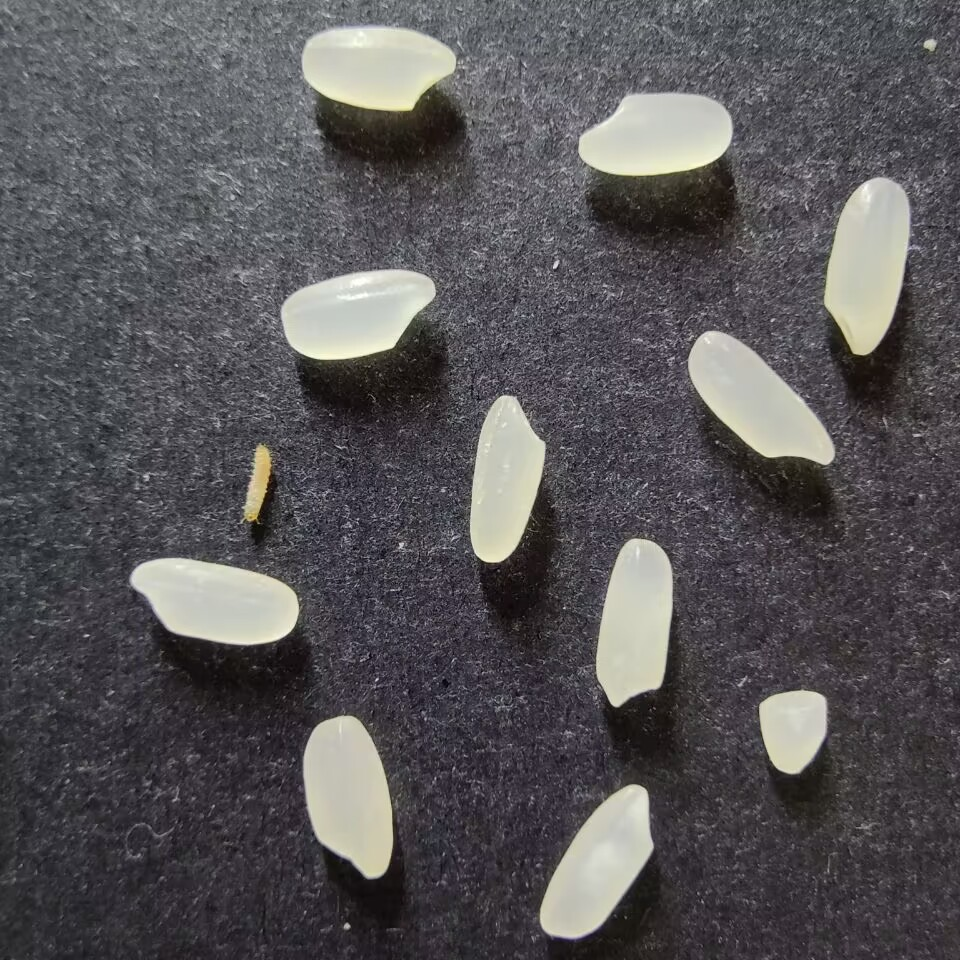broken: (758, 690, 828, 774)
others: (237, 443, 271, 527)
rice: (687, 330, 835, 466), (539, 783, 653, 939), (823, 177, 910, 356), (301, 715, 393, 879), (129, 557, 299, 645), (279, 269, 435, 360), (301, 25, 456, 111), (595, 538, 672, 707), (468, 394, 545, 563), (577, 92, 732, 175)
